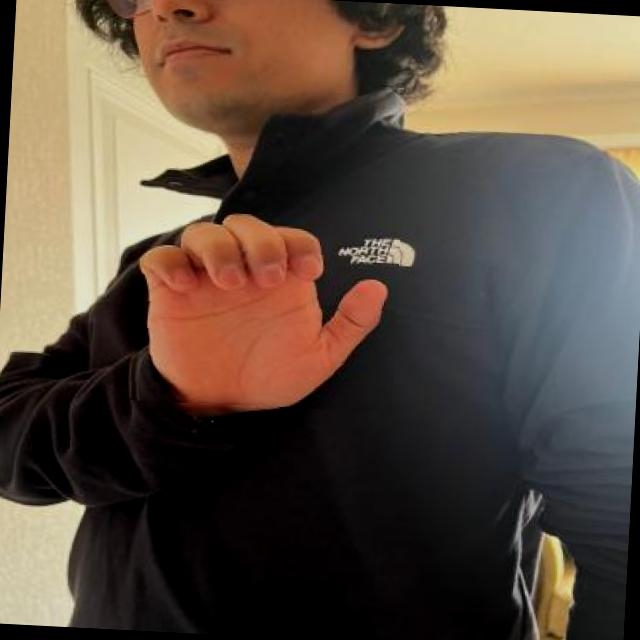E: (124, 205, 402, 414)
